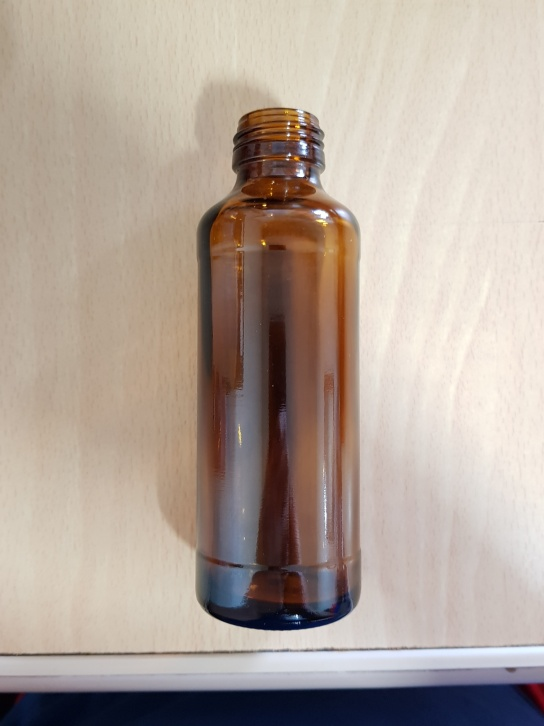Glass: (193, 104, 367, 630)
